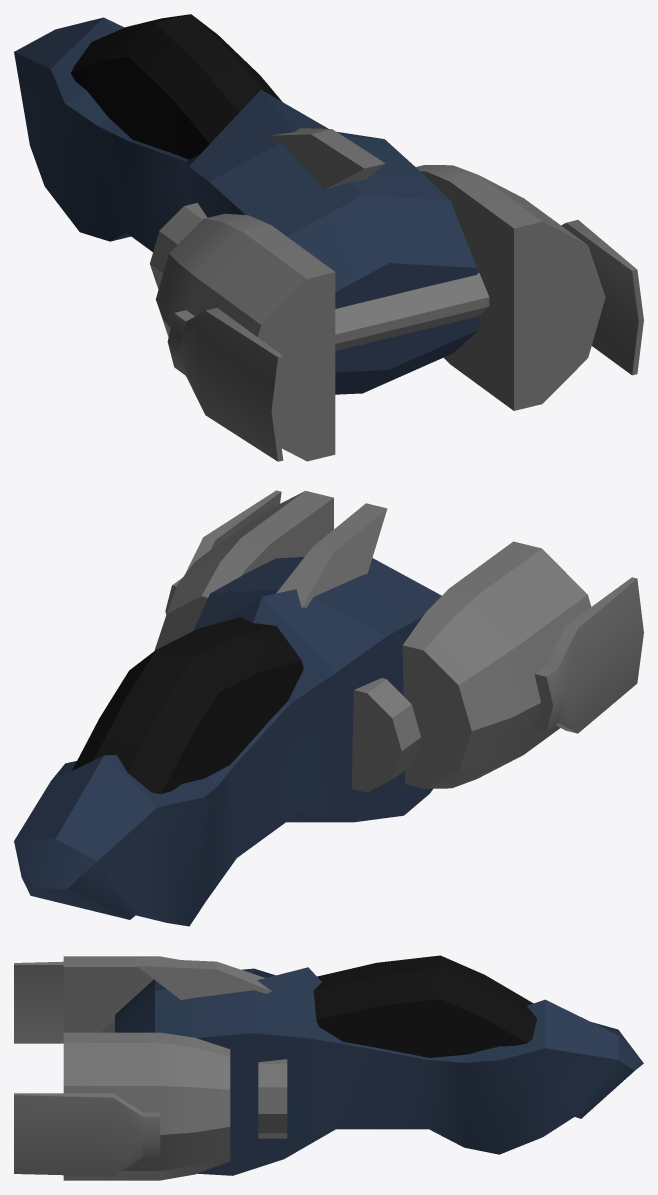
File: CyberBike.fbx
The picture shows the model from 3 angles, top to bottom: view 1: azimuth 30°, elevation 25°; view 2: azimuth 150°, elevation 25°; view 3: azimuth 270°, elevation 25°; orthographic projection. The views are drawn at different scales.
Visible parts, largest first — view 1: Main, Engine3, Engine2, Cabin, Flap2, BackPart, Flap, pCube2, Wheel2; view 2: Main, Engine2, Cabin, Flap2, Engine3, Wheel2, pCube2, Flap; view 3: Main, Engine3, Cabin, Flap, Engine2, Flap2, pCube2, Wheel.
Part boxes in pixels (bbox=[...]): Main: bbox=[14, 17, 479, 394]; Engine3: bbox=[416, 165, 605, 410]; Engine2: bbox=[155, 213, 335, 461]; Cabin: bbox=[71, 14, 282, 159]; Flap2: bbox=[167, 308, 283, 461]; BackPart: bbox=[335, 273, 489, 350]; Flap: bbox=[561, 220, 643, 375]; pCube2: bbox=[270, 128, 385, 189]; Wheel2: bbox=[150, 203, 207, 289]; Main: bbox=[14, 557, 441, 926]; Engine2: bbox=[402, 541, 591, 788]; Cabin: bbox=[72, 617, 303, 794]; Flap2: bbox=[534, 577, 643, 733]; Engine3: bbox=[154, 490, 333, 650]; Wheel2: bbox=[351, 678, 420, 792]; pCube2: bbox=[276, 503, 387, 607]; Flap: bbox=[165, 490, 281, 614]; Main: bbox=[115, 967, 643, 1175]; Engine3: bbox=[63, 1032, 230, 1180]; Cabin: bbox=[313, 955, 536, 1057]; Flap: bbox=[14, 1093, 160, 1176]; Engine2: bbox=[63, 956, 179, 1032]; Flap2: bbox=[14, 961, 63, 1043]; pCube2: bbox=[136, 958, 271, 999]; Wheel: bbox=[258, 1059, 287, 1138].
Size of the model in its own units: 15.98 by 10.19 by 29.96.
